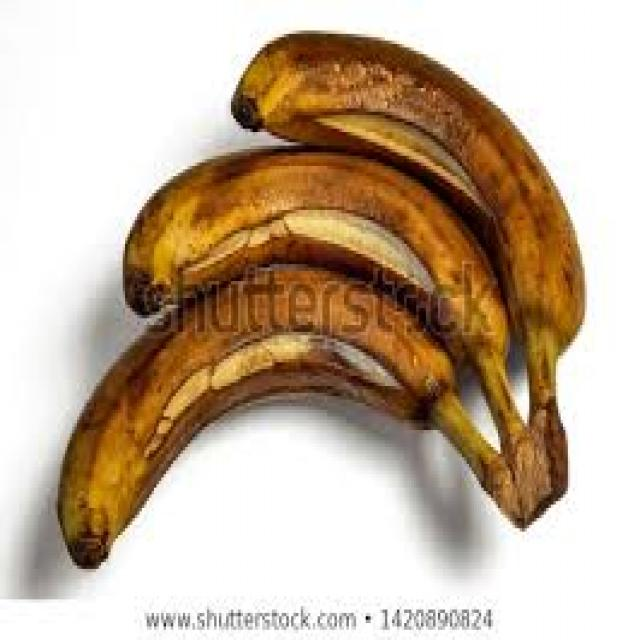organic waste: (228, 24, 584, 498), (118, 139, 551, 518), (55, 264, 520, 569)
